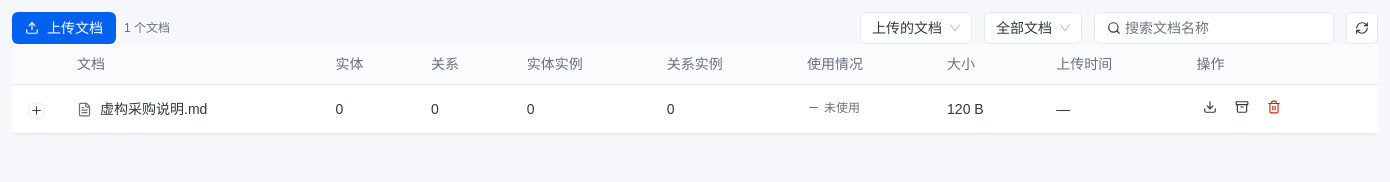
Test case: document materials › distinguishes conversation requests from uploaded documents
The width and height of the screenshot is (1390, 182).
Expected: the text "虚构采购说明.md" is shown, [100, 99, 207, 120]
Expected: the text "建模需求-2026-10-25-1646.md" is not shown
Press the mouse on the dropdown named "文档来源" at coordinates (916, 28), box [872, 13, 960, 43]
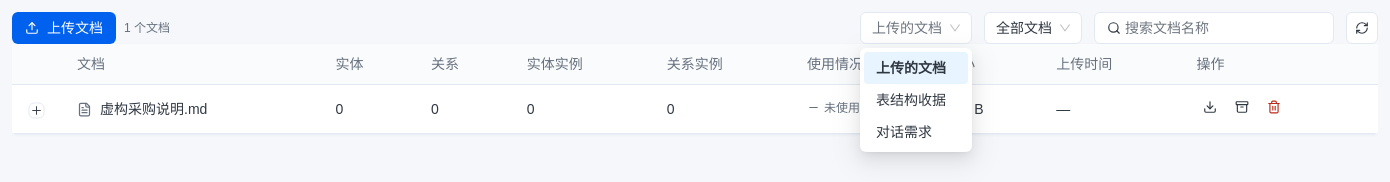
Click the text "对话需求" at coordinates (904, 132), box [876, 124, 932, 140]
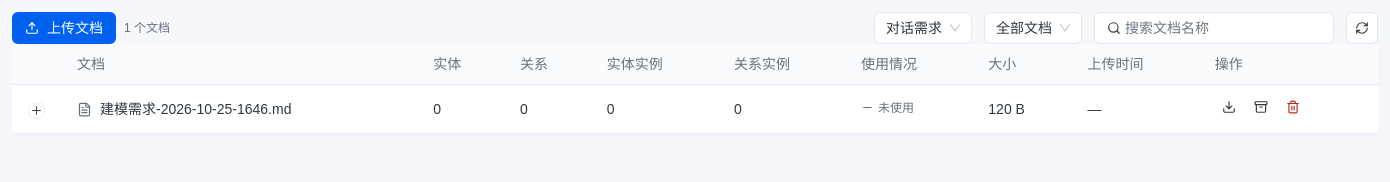
Expected: the text "1 个文档" is shown, [124, 20, 170, 36]
Expected: the text "建模需求-2026-10-25-1646.md" is shown, [100, 99, 291, 120]
Expected: the text "虚构采购说明.md" is gone
